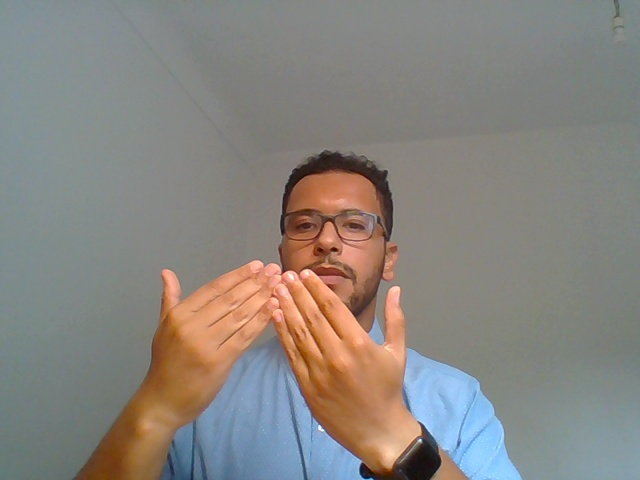thanks: (79, 258, 486, 480)
